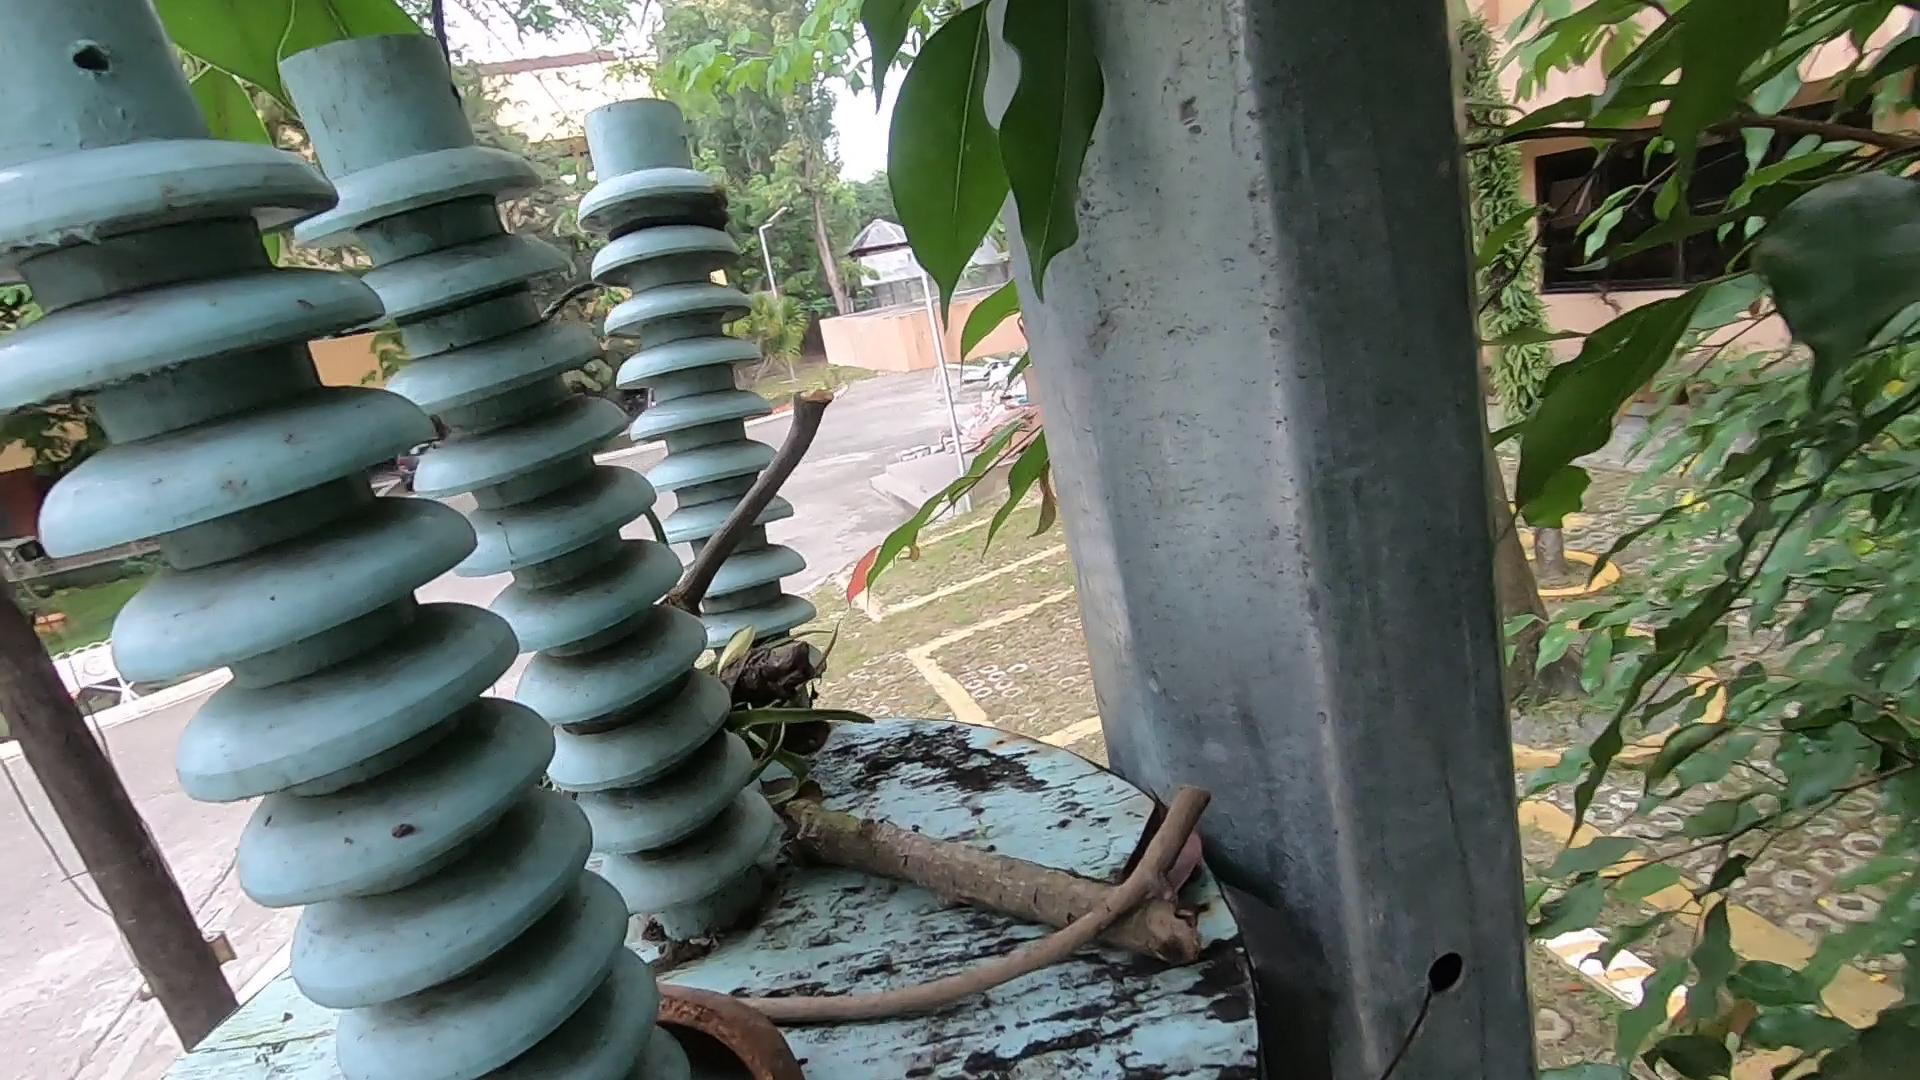branch with leaves: (626, 576, 1150, 905)
mahogany fruit: (651, 980, 803, 1063)
tree branch: (695, 764, 1232, 998), (636, 353, 860, 717)
